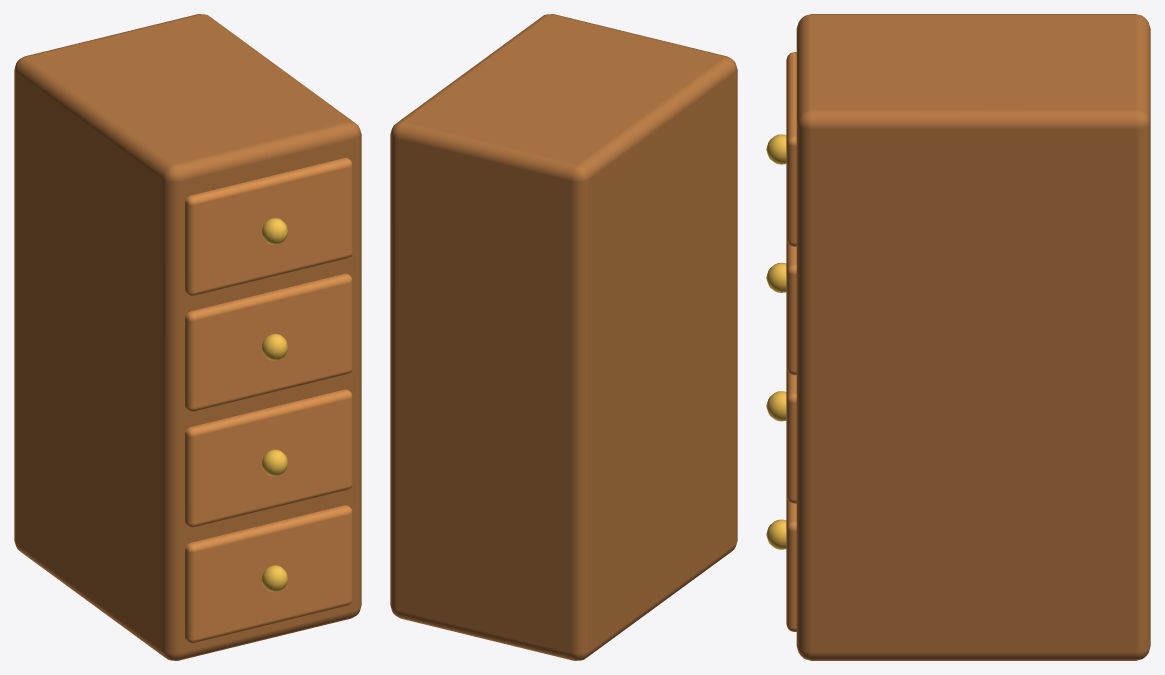
File: cabinet.glb
3 renders of one model, left to right at view 1: azimuth 30°, elevation 25°; view 2: azimuth 150°, elevation 25°; view 3: azimuth 270°, elevation 25°, orthographic. The views are drawn at different scales.
Parts seen in each view (by area): view 1: cabinet; view 2: cabinet; view 3: cabinet.
Boxes of the visible parts, bbox=[...] form: cabinet: bbox=[14, 14, 361, 660]; cabinet: bbox=[390, 14, 737, 660]; cabinet: bbox=[766, 14, 1150, 660].
Bounding box in the file's own units: 0.5 × 1.2 × 0.76.
